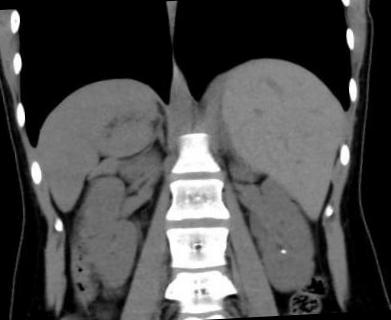Tas_Var: (276, 244, 291, 259)
